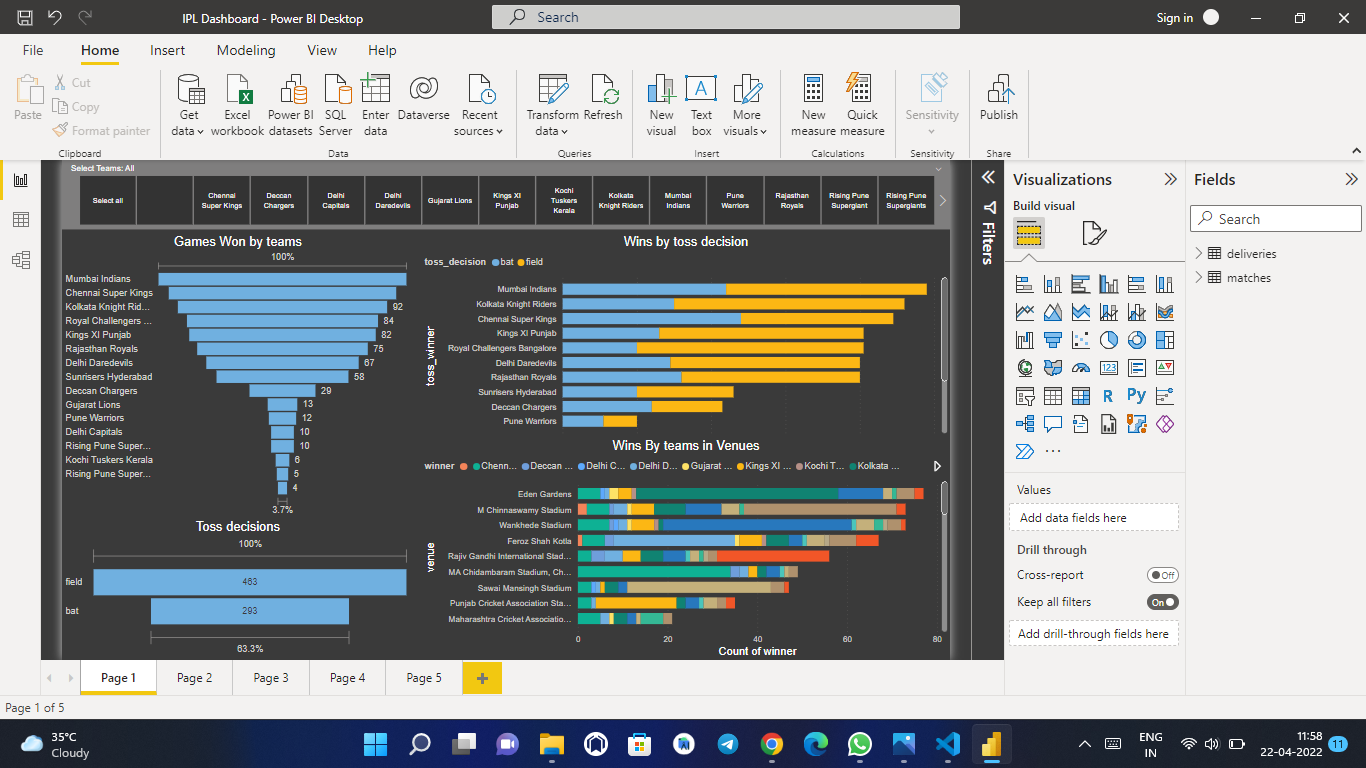

This screenshot's page, from the dashboard's own definition file:
{"tool":"powerbi","page":{"name":"Page 1","canvas":[1280,720],"ordinal":0},"visuals":[{"type":"funnel","title":"Games Won by teams","fields":{"Category":["matches.winner"],"Y":["Count(matches.date)"]},"box":[0,106.8,506.5,409.8],"z":0},{"type":"funnel","title":"Toss decisions","fields":{"Category":["matches.toss_decision"],"Y":["CountNonNull(matches.toss_winner)"]},"box":[0,516.6,506.5,203.4],"z":1000},{"type":"barChart","title":"Wins by toss decision","fields":{"Category":["matches.toss_winner"],"Y":["CountNonNull(matches.winner)"],"Series":["matches.toss_decision"]},"box":[516.6,106.8,763.3,327.5],"z":2000},{"type":"barChart","title":"Wins By teams in Venues","fields":{"Category":["matches.venue"],"Y":["CountNonNull(matches.winner)"],"Series":["matches.winner"]},"box":[516.6,399.7,763.3,320.3],"z":3000},{"type":"slicer","fields":{"Values":["matches.winner"]},"box":[0,0,1279.8,99.6],"z":4000}]}

Visuals, with their boxes on the page's 1280x720 design canvas (x1, y1, x2, y2). These are canvas units, not pixel positions in the 1366x768 screenshot, which may show the page scaled, cropped or inside an application window:
"Games Won by teams" funnel: l=0, t=107, r=506, b=517
"Toss decisions" funnel: l=0, t=517, r=506, b=720
"Wins by toss decision" barChart: l=517, t=107, r=1280, b=434
"Wins By teams in Venues" barChart: l=517, t=400, r=1280, b=720
slicer - matches.winner: l=0, t=0, r=1280, b=100
